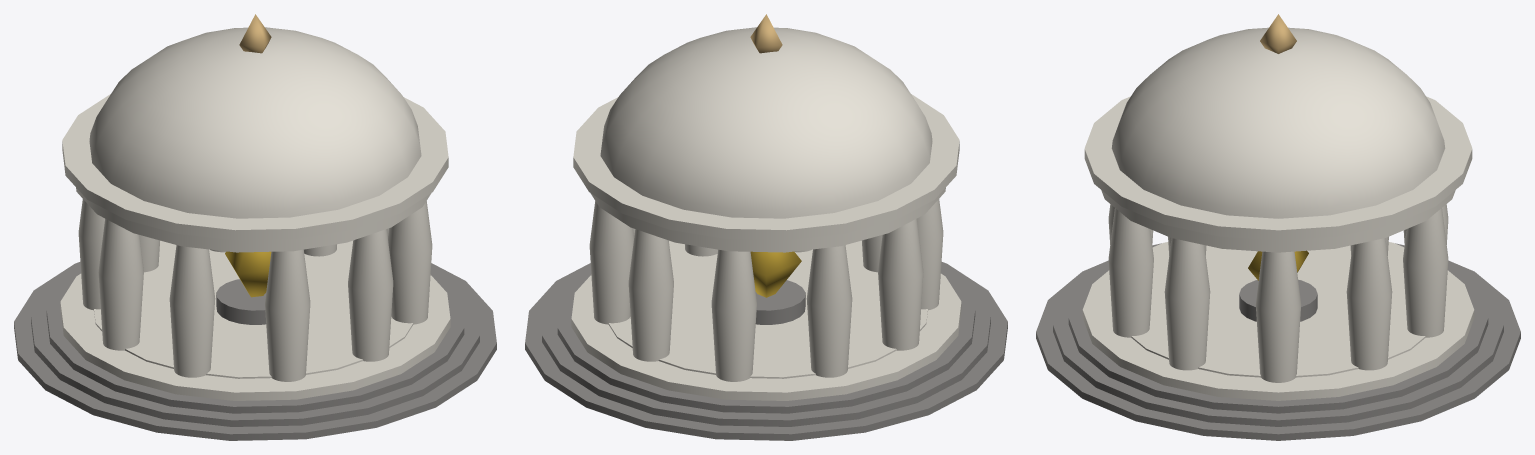
File: rotunda.fbx
3 renders of one model, left to right at view 1: azimuth 30°, elevation 25°; view 2: azimuth 150°, elevation 25°; view 3: azimuth 270°, elevation 25°, orthographic.
Visible parts, largest first — view 1: dome, innerFloor, cornice, stylobate, step_base, step_1, step_2, column_7, column_6, column_8, column_5, column_9 (+6 smaller); view 2: dome, innerFloor, cornice, stylobate, step_base, step_1, step_2, column_3, column_4, column_2, column_5, column_1 (+6 smaller); view 3: dome, innerFloor, cornice, stylobate, step_base, step_1, step_2, column, column_1, column_9, column_2, column_8 (+3 smaller).
Boxes of the visible parts, x1,y1,x2,y2 form: dome: [89, 27, 421, 218]; innerFloor: [94, 248, 413, 378]; cornice: [62, 94, 448, 240]; stylobate: [60, 240, 450, 400]; step_base: [14, 262, 496, 440]; step_1: [31, 266, 479, 426]; step_2: [46, 271, 464, 413]; column_7: [265, 249, 310, 381]; column_6: [169, 245, 215, 377]; column_8: [348, 229, 393, 361]; column_5: [98, 218, 143, 350]; column_9: [388, 201, 432, 324]; dome: [600, 27, 932, 218]; innerFloor: [608, 248, 927, 378]; cornice: [573, 94, 959, 240]; stylobate: [571, 240, 961, 400]; step_base: [525, 262, 1007, 440]; step_1: [542, 266, 990, 426]; step_2: [557, 271, 975, 413]; column_3: [711, 249, 756, 381]; column_4: [806, 245, 852, 377]; column_2: [628, 229, 673, 361]; column_5: [878, 218, 923, 350]; column_1: [589, 201, 633, 324]; dome: [1111, 27, 1445, 218]; innerFloor: [1131, 246, 1425, 377]; cornice: [1084, 96, 1472, 240]; stylobate: [1082, 242, 1474, 400]; step_base: [1036, 243, 1520, 440]; step_1: [1053, 246, 1503, 426]; step_2: [1068, 266, 1488, 413]; column: [1255, 251, 1301, 382]; column_1: [1346, 238, 1392, 370]; column_9: [1164, 238, 1210, 370]; column_2: [1403, 208, 1448, 337]; column_8: [1108, 208, 1153, 337].
Size of the model in its own units: 26 by 19.2 by 26.
